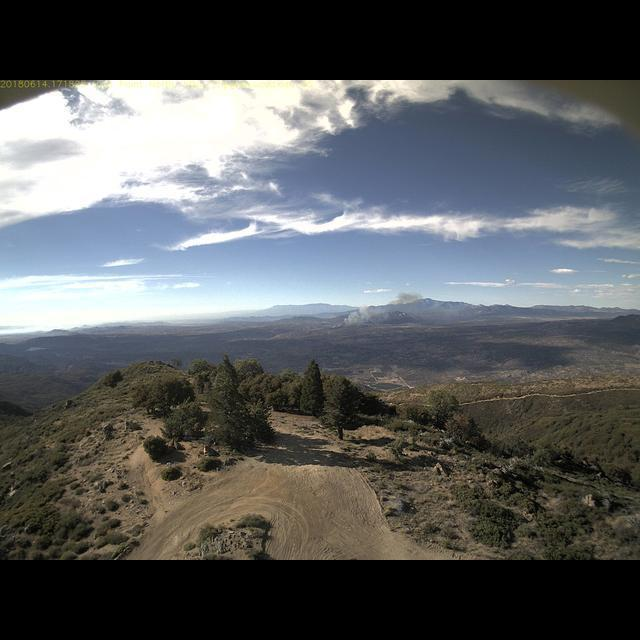Smoke: (323, 290, 425, 331)
